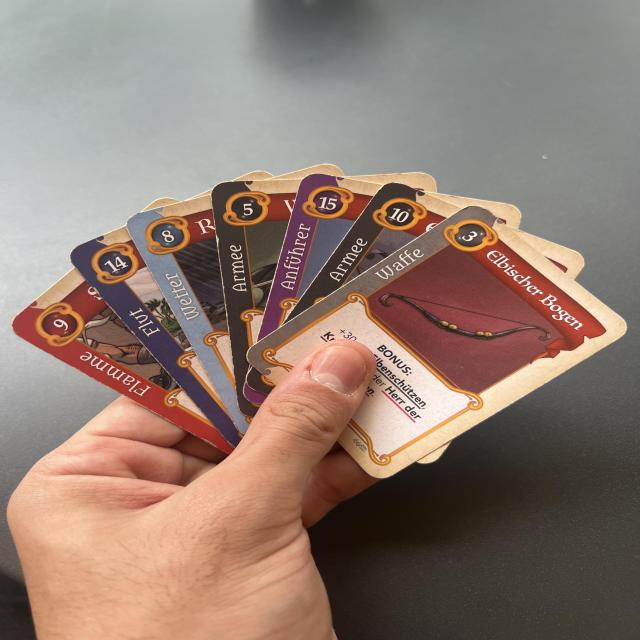Elven Archers: (283, 181, 464, 325)
Elven Longbow: (247, 205, 637, 484)
Empress: (258, 172, 384, 341)
Forge: (7, 267, 236, 457)
Island: (64, 228, 238, 447)
Rainstorm: (123, 196, 242, 429)
Rangers: (210, 178, 300, 360)
